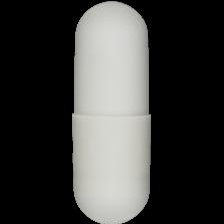35356-054: (0, 0, 224, 224)
